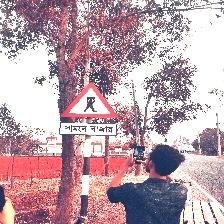Market-in-front: (59, 82, 120, 137)
